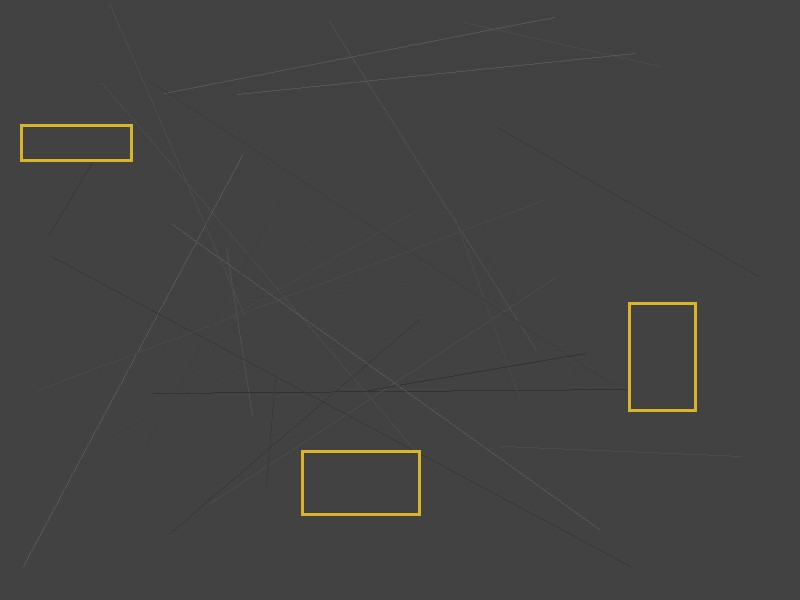D00: (301, 450, 420, 515), (20, 124, 132, 161)
D20: (628, 302, 696, 411)
